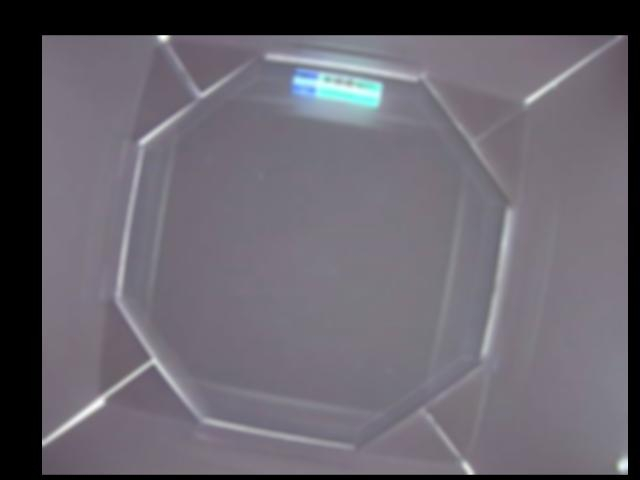Battery: (291, 69, 382, 104)
